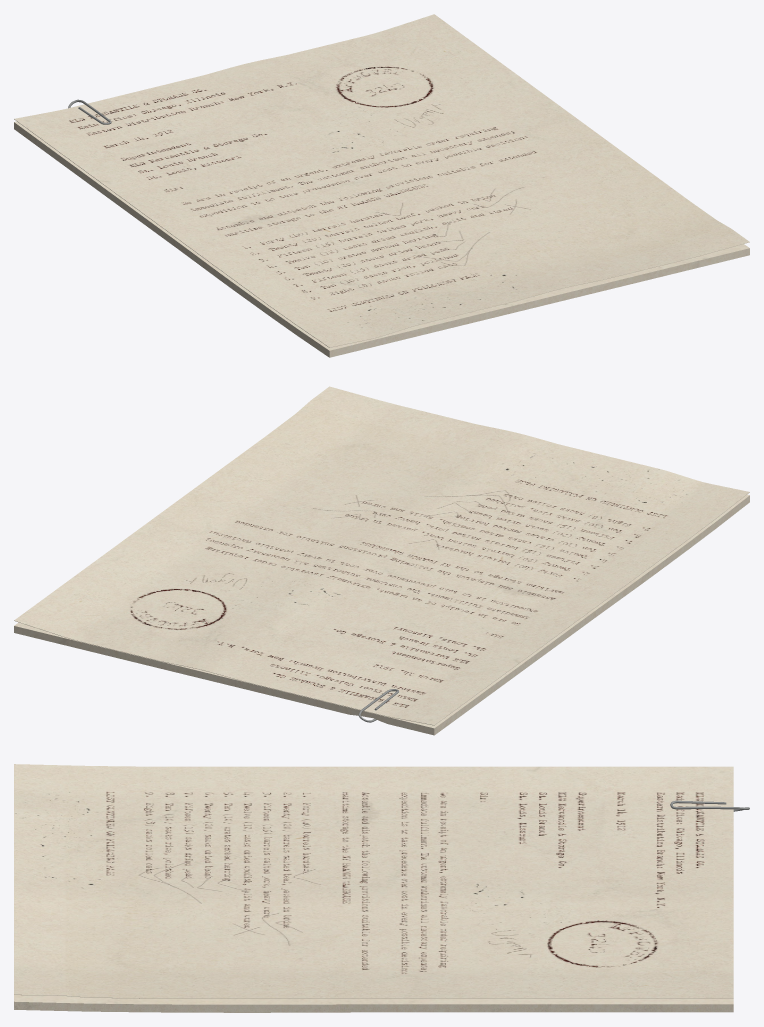
The model's file is docs.glb.
The picture shows the model from 3 angles, top to bottom: view 1: azimuth 30°, elevation 25°; view 2: azimuth 150°, elevation 25°; view 3: azimuth 270°, elevation 25°; orthographic projection. The views are drawn at different scales.
Parts seen in each view (by area): view 1: Tidy Paperclipped Office Documents.001; view 2: Tidy Paperclipped Office Documents.001; view 3: Tidy Paperclipped Office Documents.001.
Boxes of the visible parts, box(x1,y1,x2,y2) form: Tidy Paperclipped Office Documents.001: box(14, 14, 749, 357); Tidy Paperclipped Office Documents.001: box(14, 386, 749, 735); Tidy Paperclipped Office Documents.001: box(14, 764, 749, 1012).
Bounding box in the file's own units: 0.2173 × 0.00798 × 0.2889.
1 material, 1 textured.
